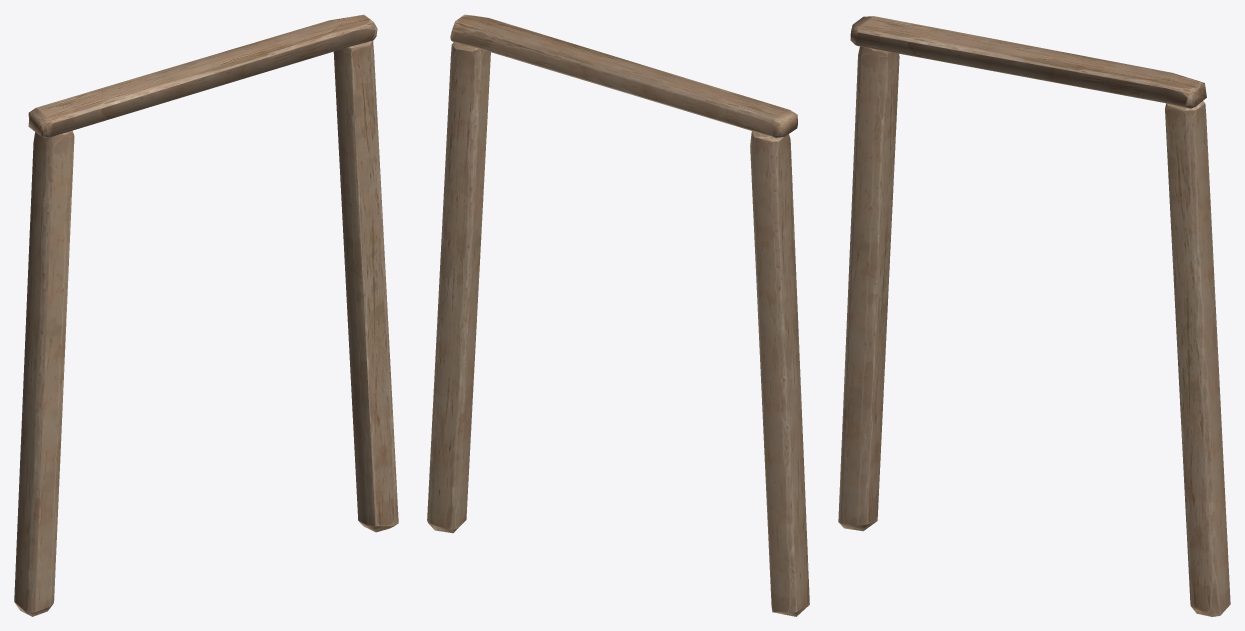
File: CorridorBeam_01.fbx
3 views of the same model, side by side, from view 1: azimuth 30°, elevation 25°; view 2: azimuth 150°, elevation 25°; view 3: azimuth 330°, elevation 25° (orthographic). The views are drawn at different scales.
Parts seen in each view (by area): view 1: CorridorBeam_01; view 2: CorridorBeam_01; view 3: CorridorBeam_01.
Boxes of the visible parts, box(x1,y1,x2,y2) form: CorridorBeam_01: box(14, 14, 398, 616); CorridorBeam_01: box(427, 14, 809, 616); CorridorBeam_01: box(838, 16, 1230, 616).
Size of the model in its own units: 1.49 by 1.97 by 0.142.
